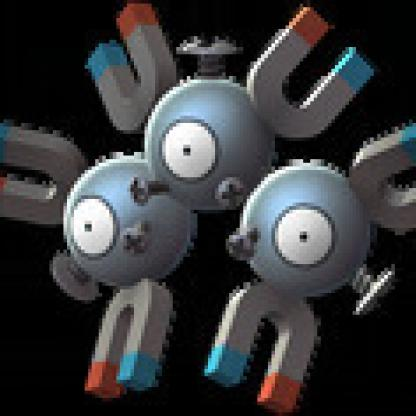Magneton: (1, 1, 414, 414)
